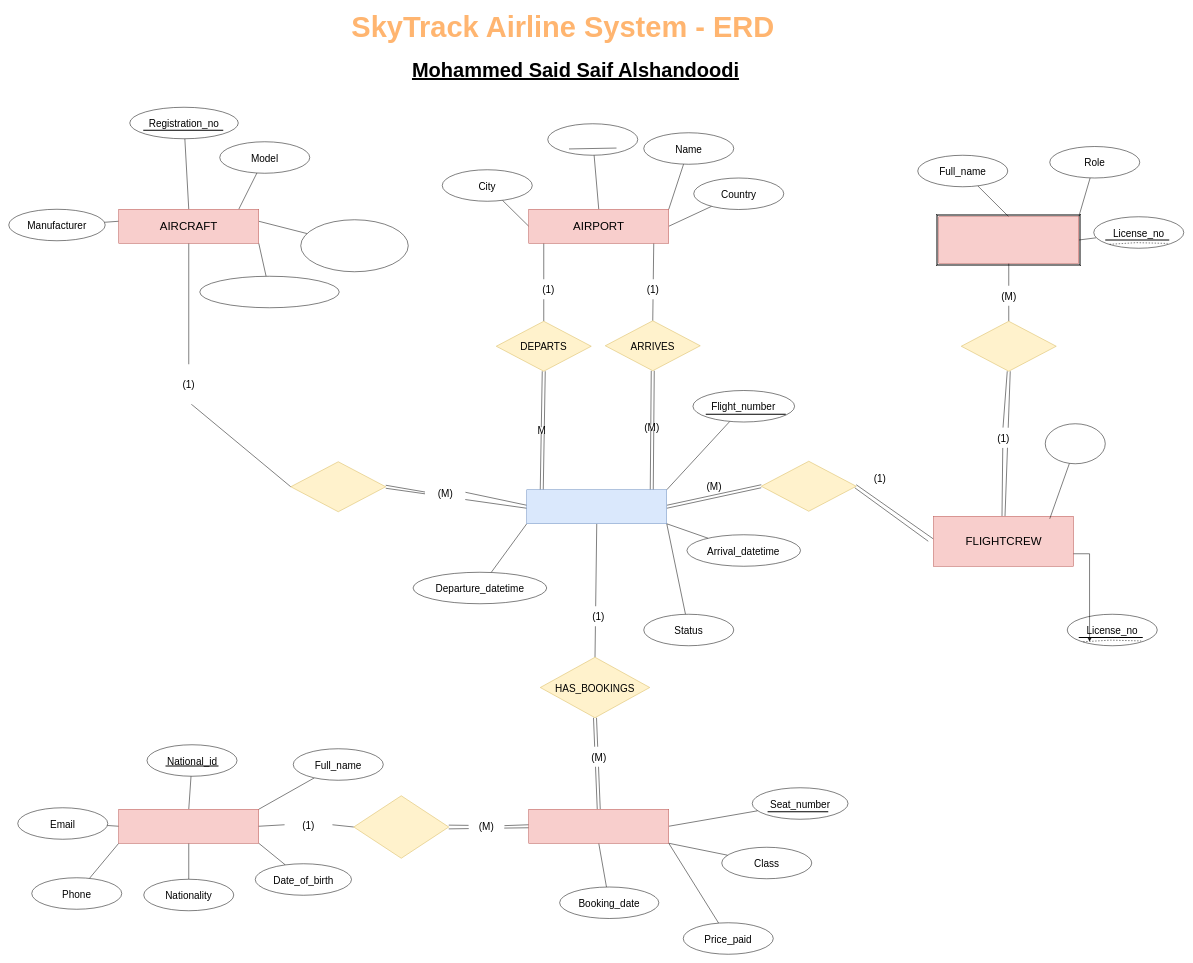
The diagram is 1193 pixels wide and 963 high, and some of its shapes have lost their labels. Here are the shapes that lost their labels. From the top down, the centre of each, then its label:
the point at 592,139: IATA_code
the point at 354,245: Total_Seating_Capacity
the point at 1008,239: CREW MEMBER
the point at 269,292: Year_of_manufacture
the point at 1008,346: RECEIVES
the point at 1075,443: FlightNumber
the point at 338,486: ASSIGNED_TO
the point at 596,506: FLIGHT
the point at 808,486: HAS_CREW
the point at 188,826: PASSENGER
the point at 401,826: MAKES
the point at 598,826: BOOKING
